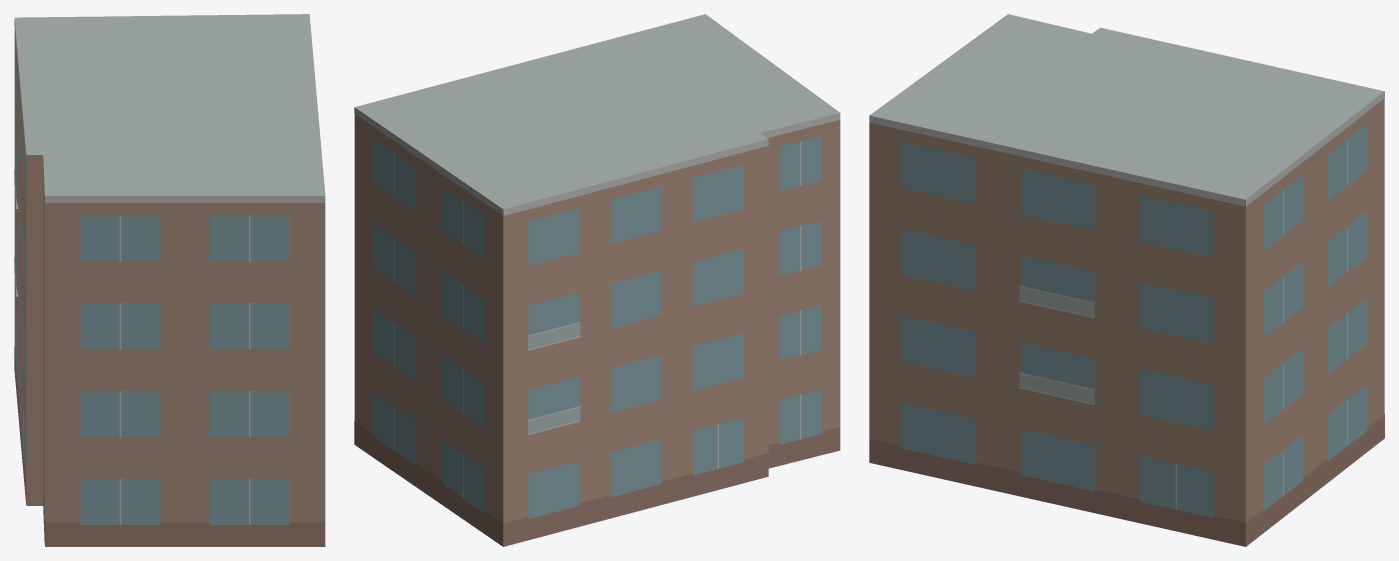
Rendered from survey-upis-32879190.glb.
3 renders of one model, left to right at view 1: azimuth 30°, elevation 25°; view 2: azimuth 150°, elevation 25°; view 3: azimuth 270°, elevation 25°, orthographic. The views are drawn at different scales.
Parts seen in each view (by area): view 1: survey-upis-32879190.tmp; view 2: survey-upis-32879190.tmp; view 3: survey-upis-32879190.tmp.
Boxes of the visible parts, bbox=[...] form: survey-upis-32879190.tmp: bbox=[14, 14, 325, 546]; survey-upis-32879190.tmp: bbox=[354, 14, 840, 546]; survey-upis-32879190.tmp: bbox=[869, 14, 1384, 546].
Bounding box in the file's own units: 14.01 × 12.2 × 16.43.
